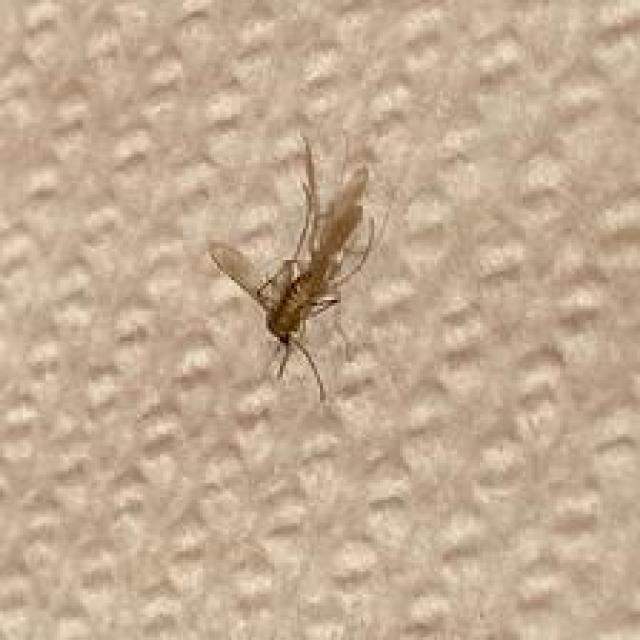Culex: (204, 134, 379, 403)
